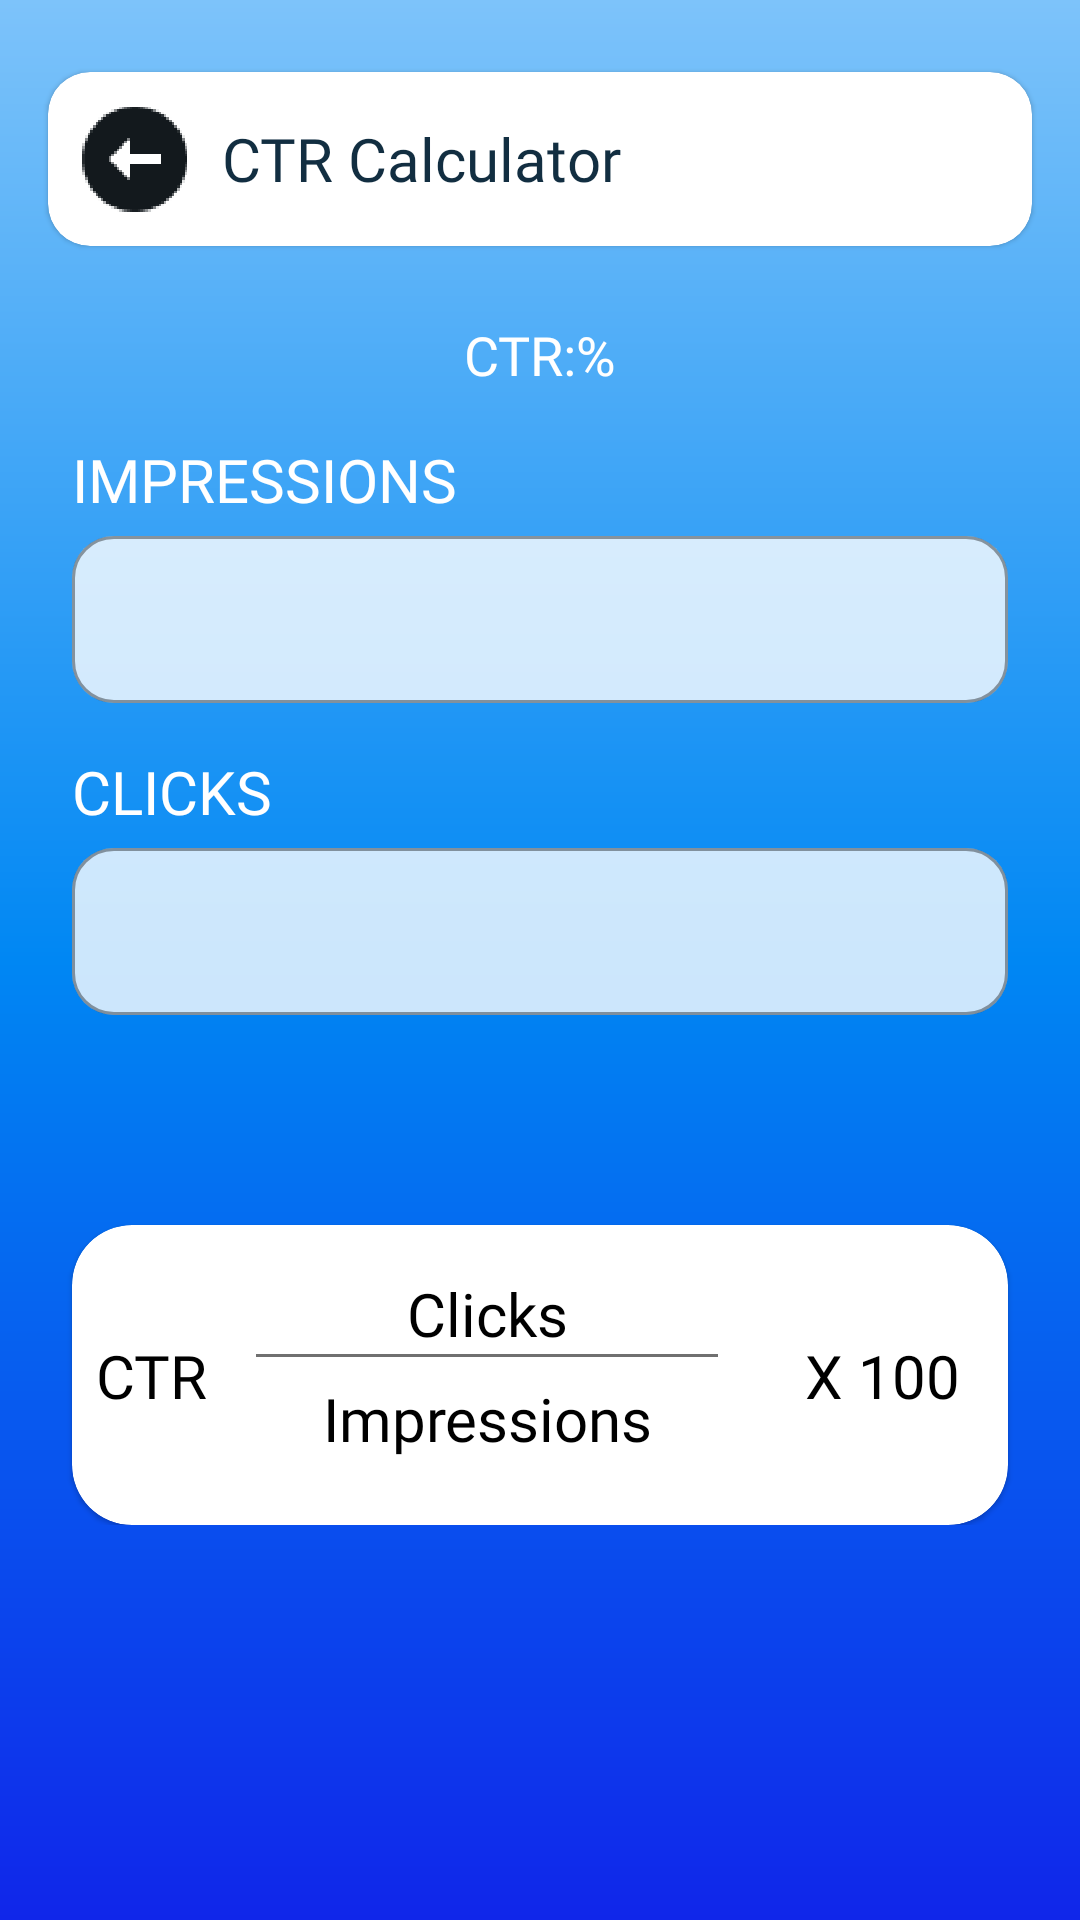

Screen size 1080px×1920px. Icon name, then its box in pixels as (left=x1, top=y1, right=x2, bottom=y2):
scroll back: (left=82, top=107, right=187, bottom=212)
